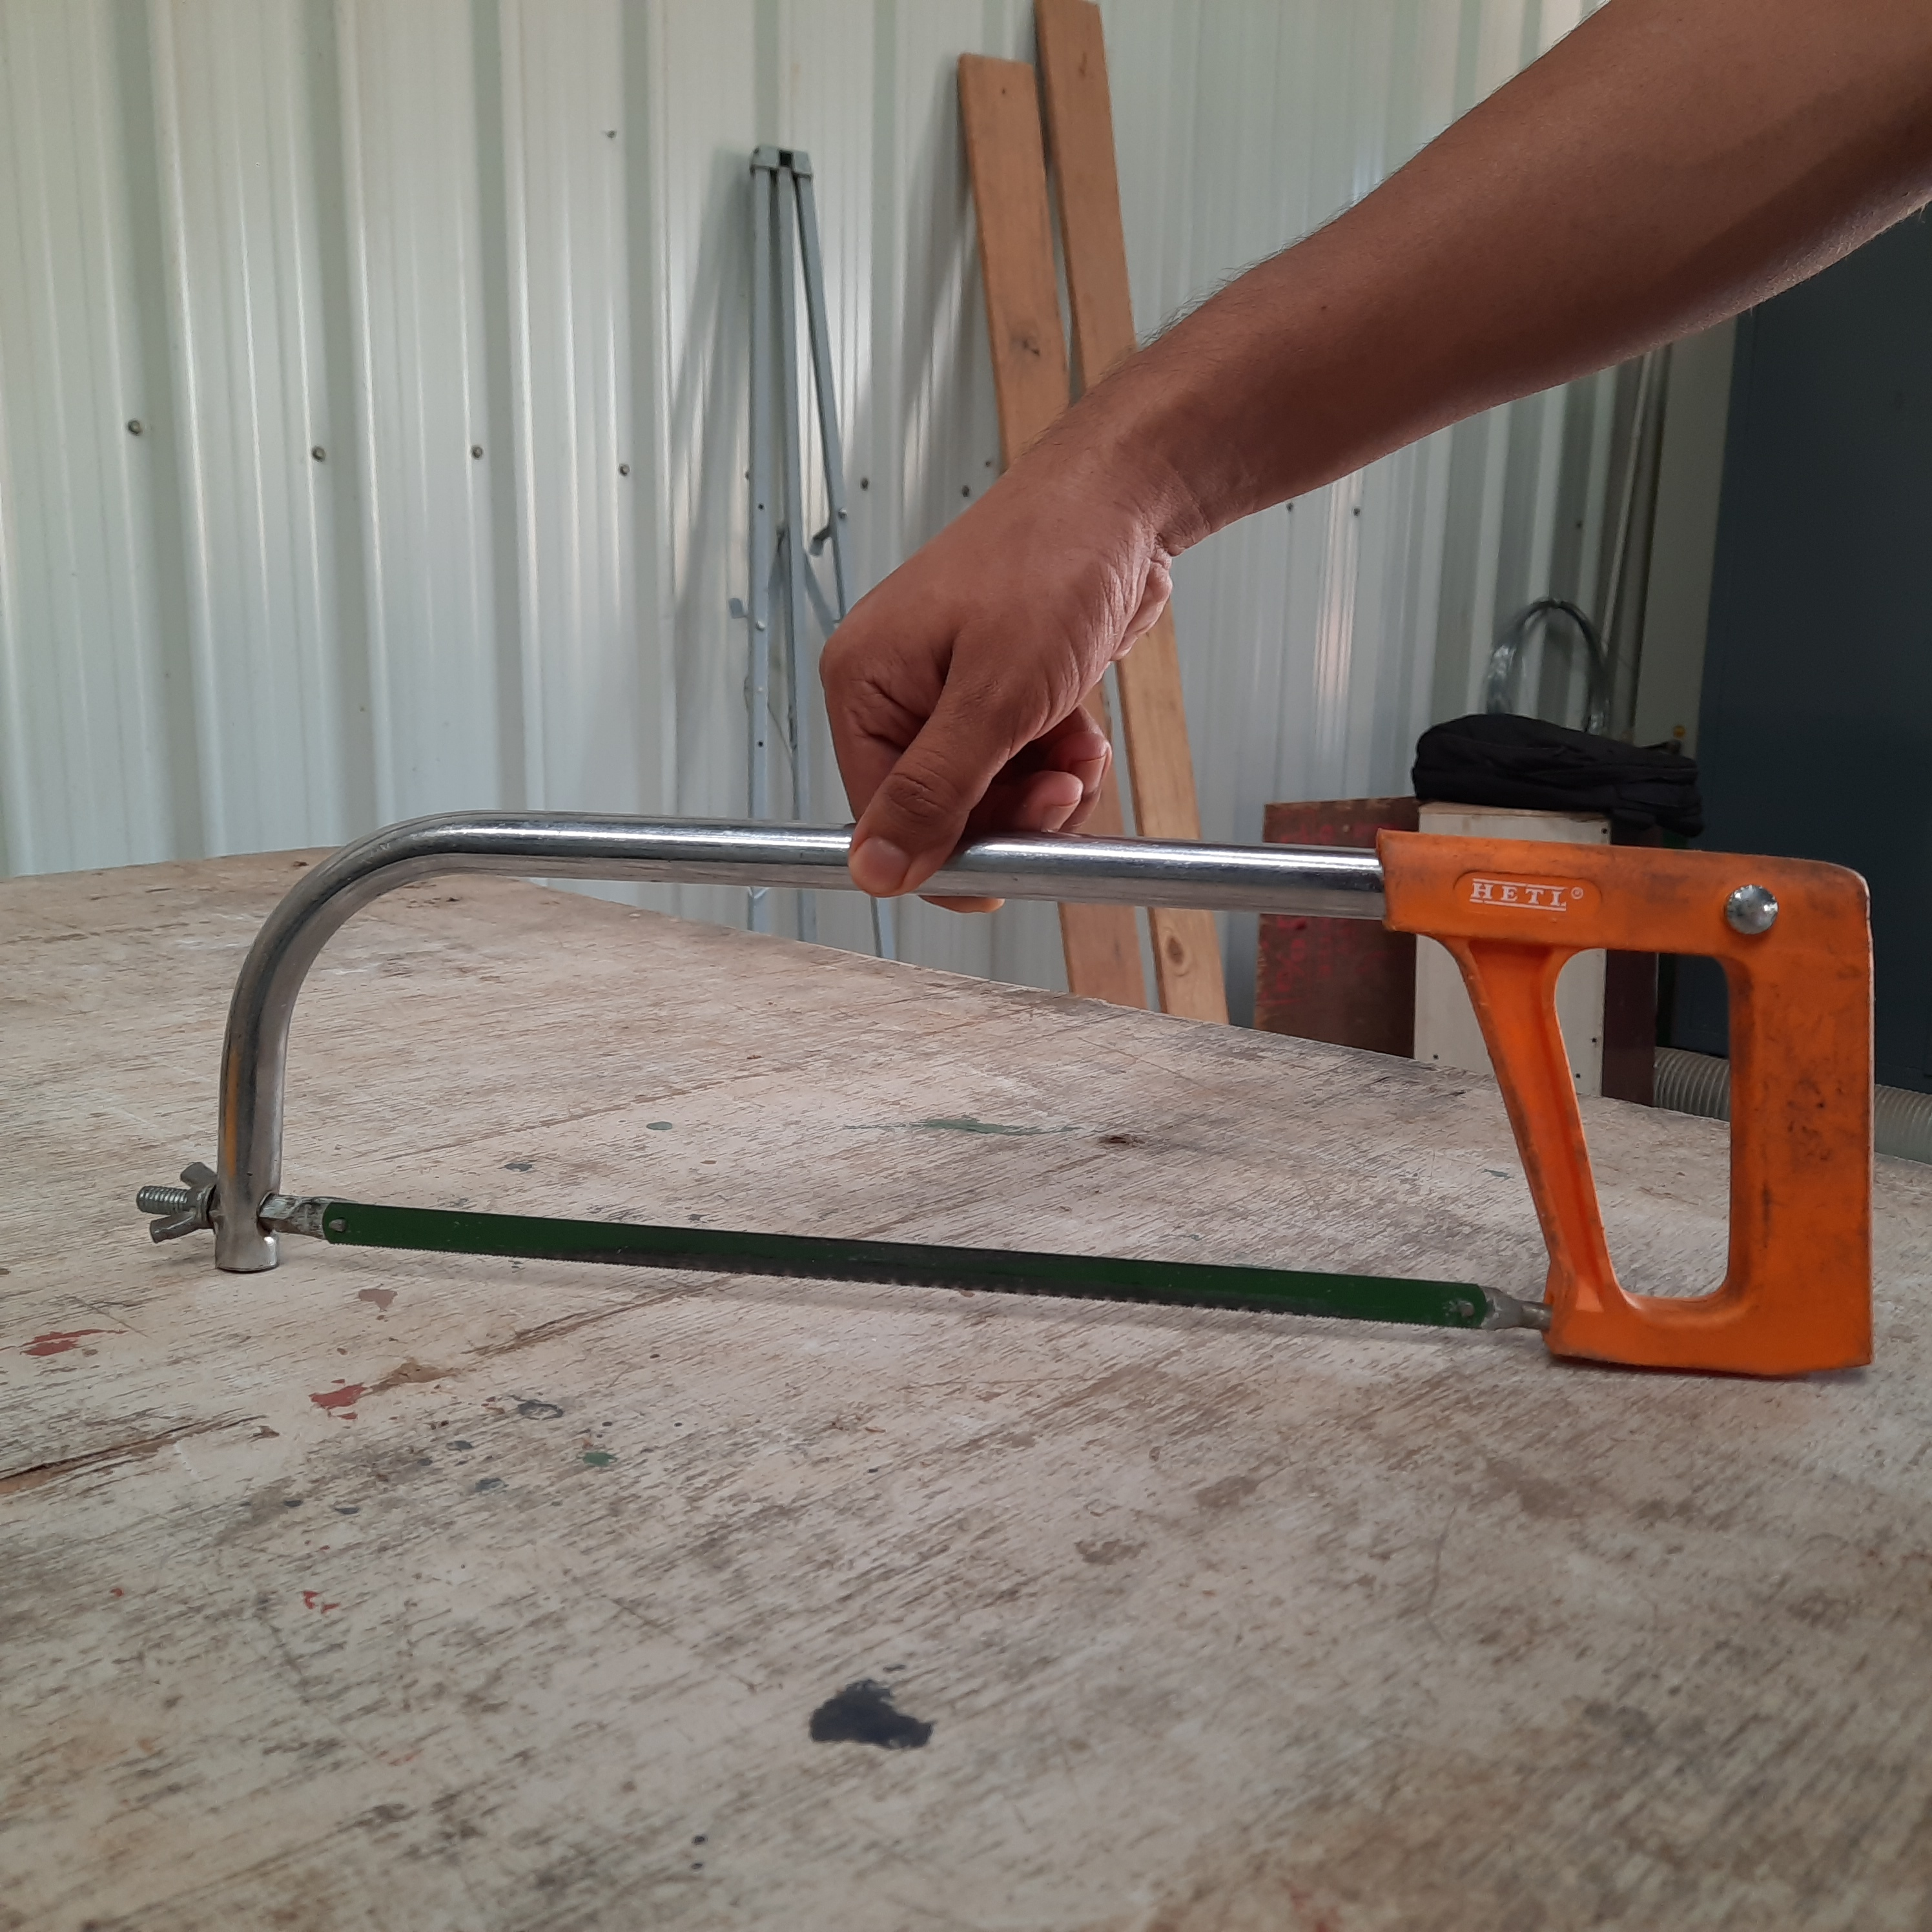Hexaframe: (108, 775, 1893, 1417)
